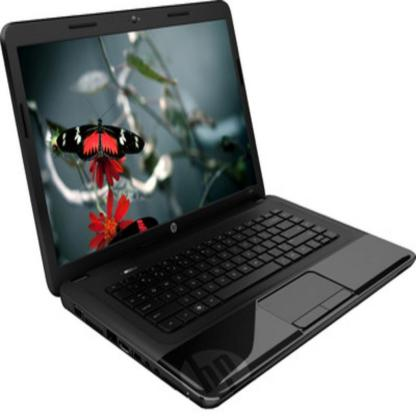board: (0, 0, 415, 412)
